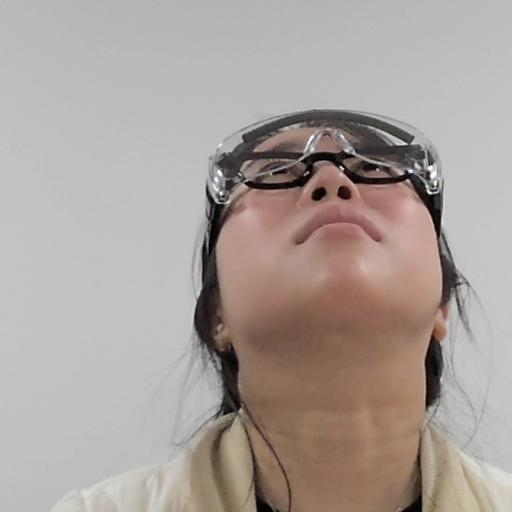glasses: (184, 101, 467, 394)
